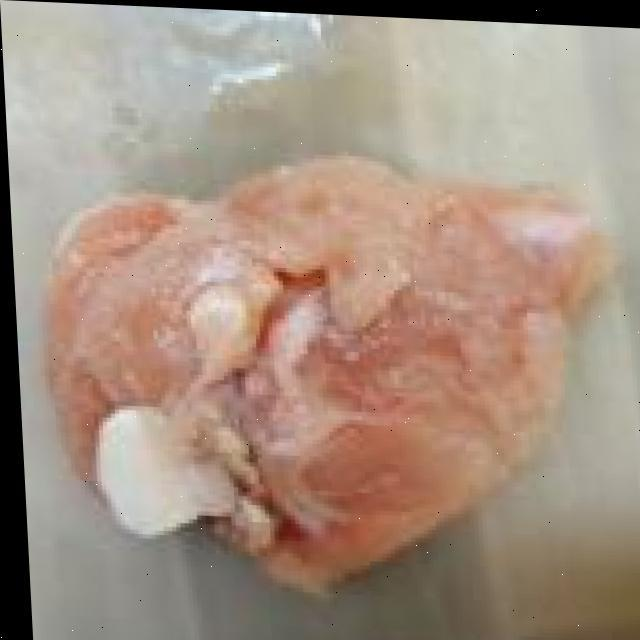breast: (29, 129, 618, 596)
